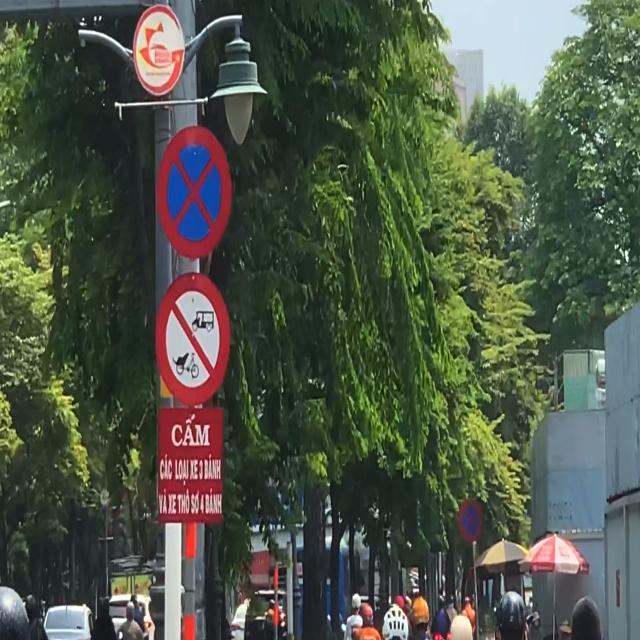Cam con lai: (157, 271, 230, 413)
Cam dung va do: (154, 120, 236, 262), (457, 495, 484, 546)
